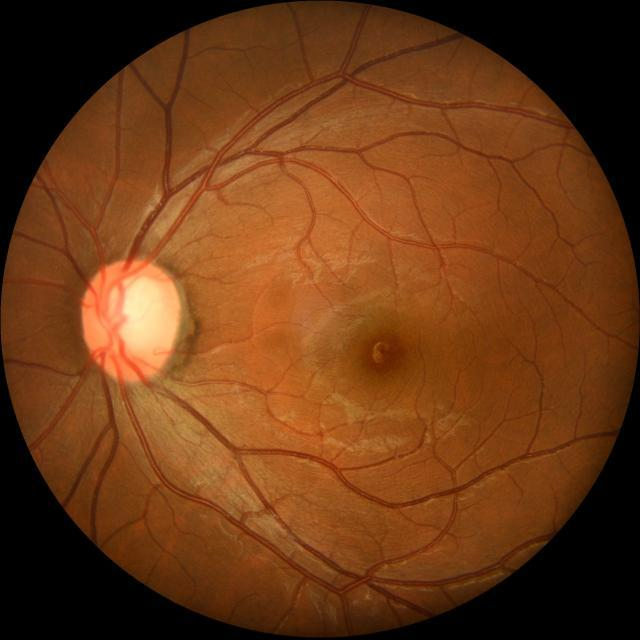OC: (105, 278, 165, 356)
OD: (80, 258, 179, 382)
